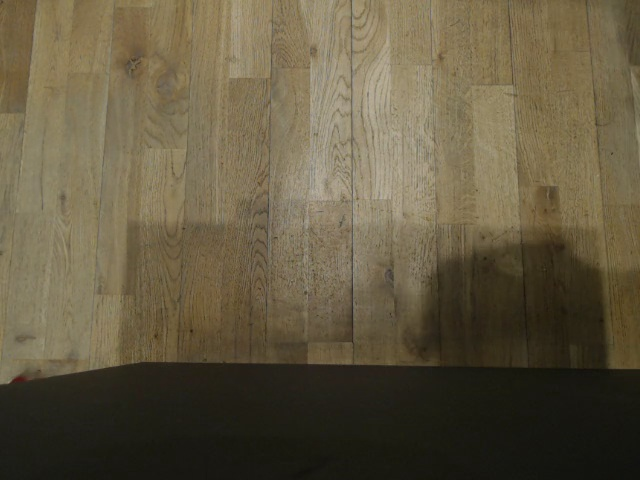cola: (3, 373, 46, 384)
